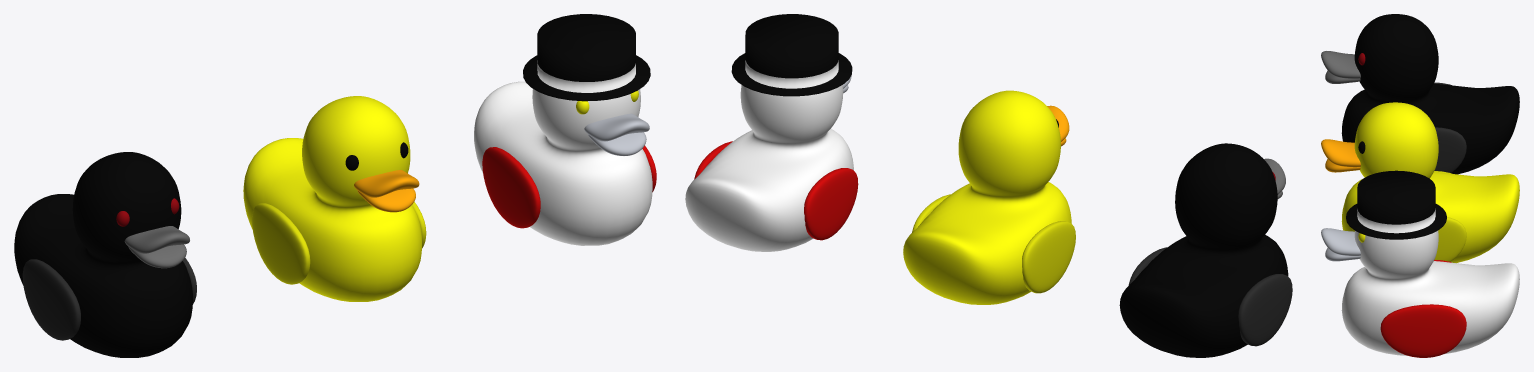
File: Ducks.glb
3 views of the same model, side by side, from view 1: azimuth 30°, elevation 25°; view 2: azimuth 150°, elevation 25°; view 3: azimuth 270°, elevation 25° (orthographic). The views are drawn at different scales.
Visible parts, largest first — view 1: FancyDucky, EvilDucky, RubberDucky; view 2: FancyDucky, RubberDucky, EvilDucky; view 3: FancyDucky, EvilDucky, RubberDucky.
Boxes of the visible parts, x1,y1,x2,y2 form: FancyDucky: (474, 14, 656, 245); EvilDucky: (14, 152, 196, 357); RubberDucky: (243, 96, 426, 301); FancyDucky: (685, 14, 858, 251); RubberDucky: (903, 90, 1075, 304); EvilDucky: (1119, 143, 1292, 357); FancyDucky: (1321, 170, 1519, 357); EvilDucky: (1321, 14, 1519, 174); RubberDucky: (1321, 102, 1519, 263).
Size of the model in its own units: 8.85 by 2.94 by 3.28.
